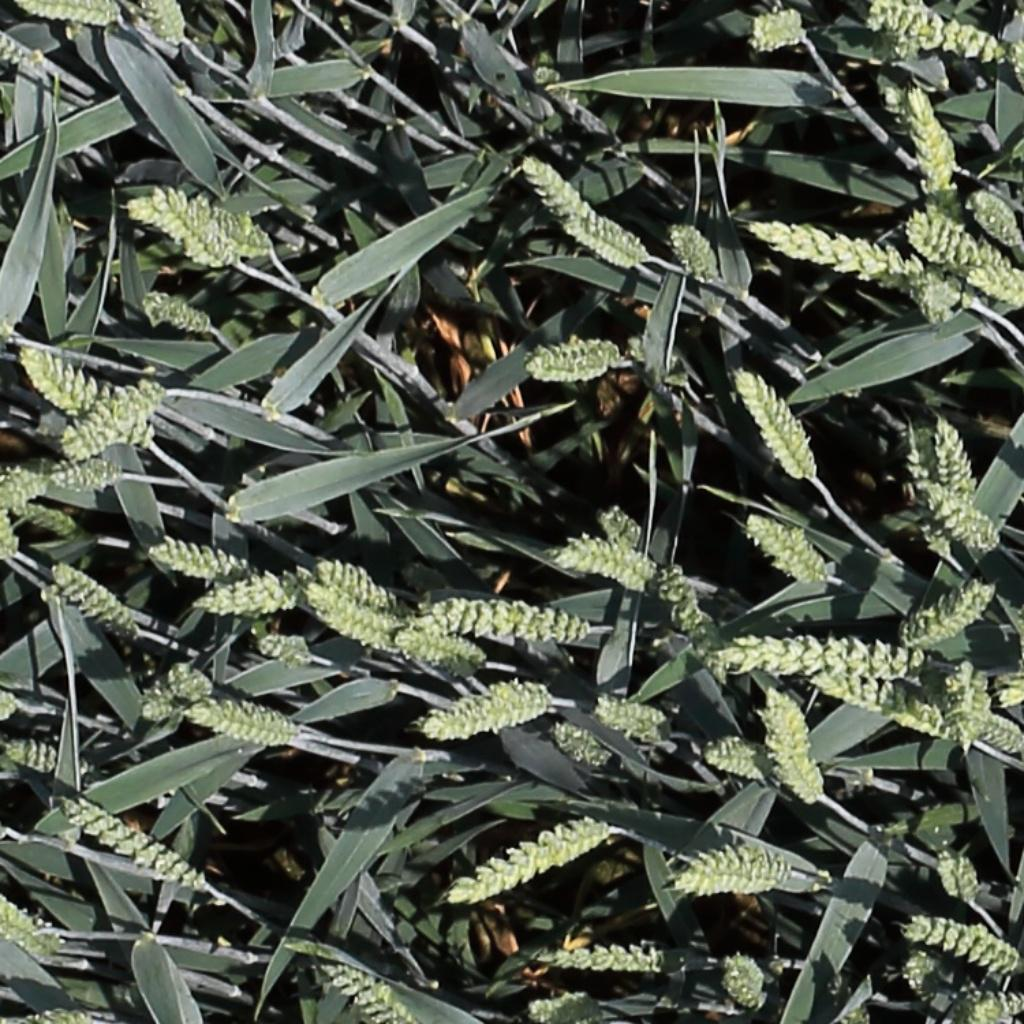0-0: (588, 507, 731, 650), (440, 811, 621, 905), (521, 152, 644, 258), (61, 800, 204, 891), (887, 440, 997, 553), (859, 0, 1024, 74), (713, 624, 933, 676), (663, 835, 811, 910), (417, 577, 587, 641), (815, 674, 962, 743), (20, 345, 157, 419), (737, 365, 815, 486), (421, 673, 565, 737), (915, 410, 977, 555), (522, 330, 634, 392), (197, 560, 326, 613), (124, 191, 230, 255), (47, 561, 136, 634), (760, 696, 820, 804), (130, 664, 233, 724), (935, 658, 998, 751), (64, 393, 154, 458), (910, 211, 1007, 271), (746, 513, 824, 584), (30, 439, 134, 492), (912, 584, 996, 649), (907, 77, 954, 192), (913, 921, 1018, 969), (308, 587, 394, 644), (314, 561, 405, 614), (324, 963, 409, 1019), (539, 75, 615, 135), (0, 866, 53, 950), (555, 546, 656, 587), (189, 705, 297, 742), (669, 218, 723, 288), (202, 203, 273, 256), (969, 184, 1024, 251), (566, 219, 644, 264), (705, 726, 768, 780), (148, 546, 253, 576), (143, 292, 214, 333), (939, 847, 980, 916), (882, 949, 945, 993), (395, 633, 487, 663), (722, 951, 768, 1011), (552, 723, 613, 768), (0, 0, 39, 70), (10, 999, 116, 1024), (9, 499, 79, 536), (963, 707, 1024, 749), (20, 1, 121, 23), (143, 0, 188, 49), (596, 701, 669, 731), (529, 992, 602, 1021), (968, 266, 1024, 301), (954, 850, 981, 916), (750, 15, 805, 47), (0, 475, 19, 567), (982, 667, 1024, 707), (0, 744, 62, 771), (256, 634, 311, 663), (973, 995, 1024, 1021), (0, 697, 15, 740)
